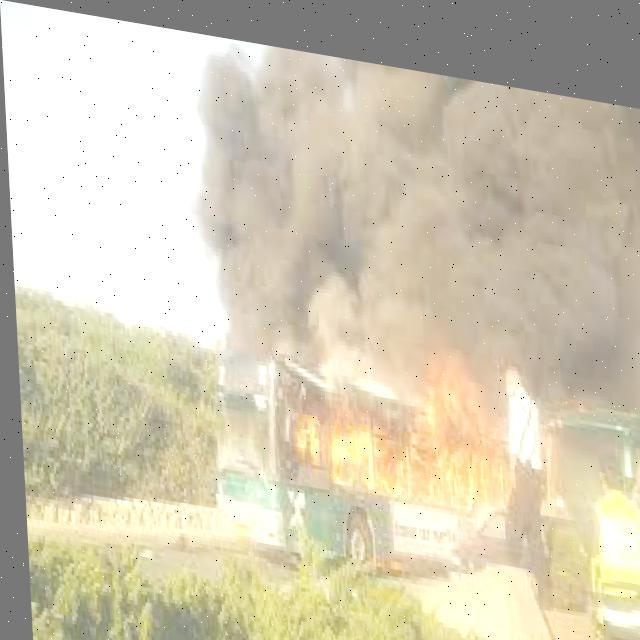Fire: (269, 298, 528, 514)
